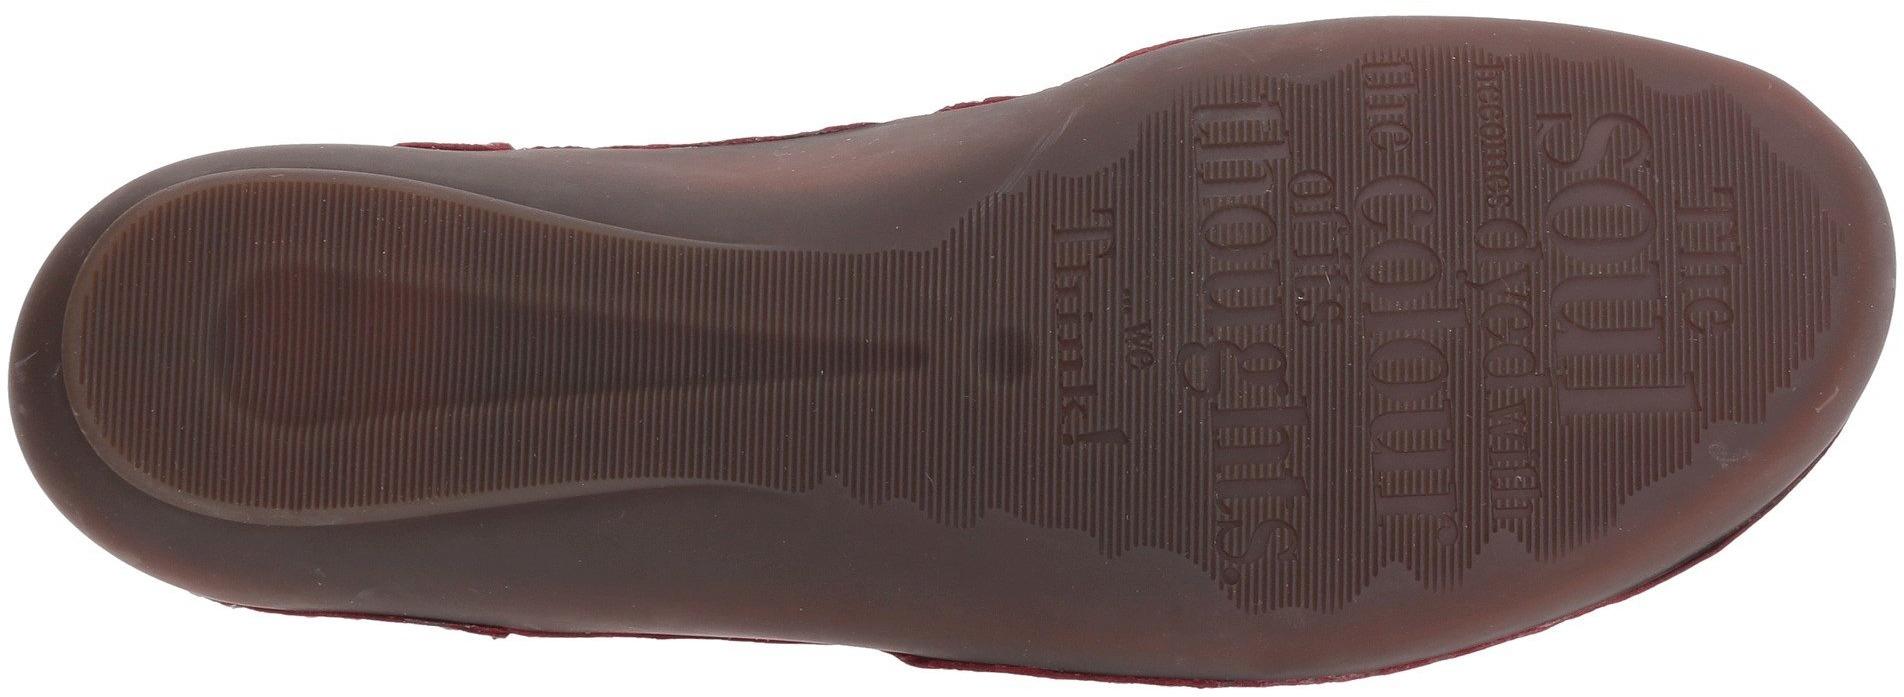line: (1345, 353, 1540, 529), (1341, 181, 1487, 328), (1555, 274, 1705, 404), (1528, 118, 1660, 260), (1190, 248, 1328, 370), (1169, 112, 1305, 234), (1180, 399, 1317, 518), (1045, 321, 1177, 442), (1330, 55, 1428, 140)
other: (662, 253, 854, 442), (106, 257, 314, 427), (869, 285, 1041, 448), (316, 221, 482, 367), (504, 251, 653, 403), (322, 380, 444, 508)
text: (1345, 353, 1540, 529), (1341, 181, 1487, 328), (1555, 274, 1705, 404), (1528, 118, 1660, 260), (1190, 248, 1328, 370), (1169, 112, 1305, 234), (1180, 399, 1317, 518), (1045, 321, 1177, 442), (1035, 212, 1149, 306), (1330, 55, 1428, 140), (1673, 195, 1749, 270), (1463, 89, 1519, 152)
